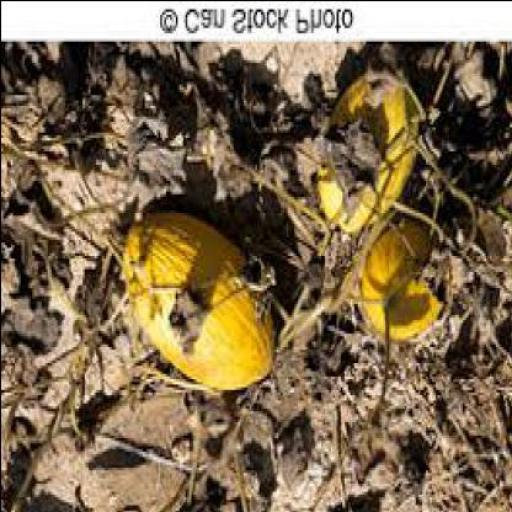biodegradable: (119, 212, 271, 394), (314, 70, 417, 238), (359, 222, 440, 340)
